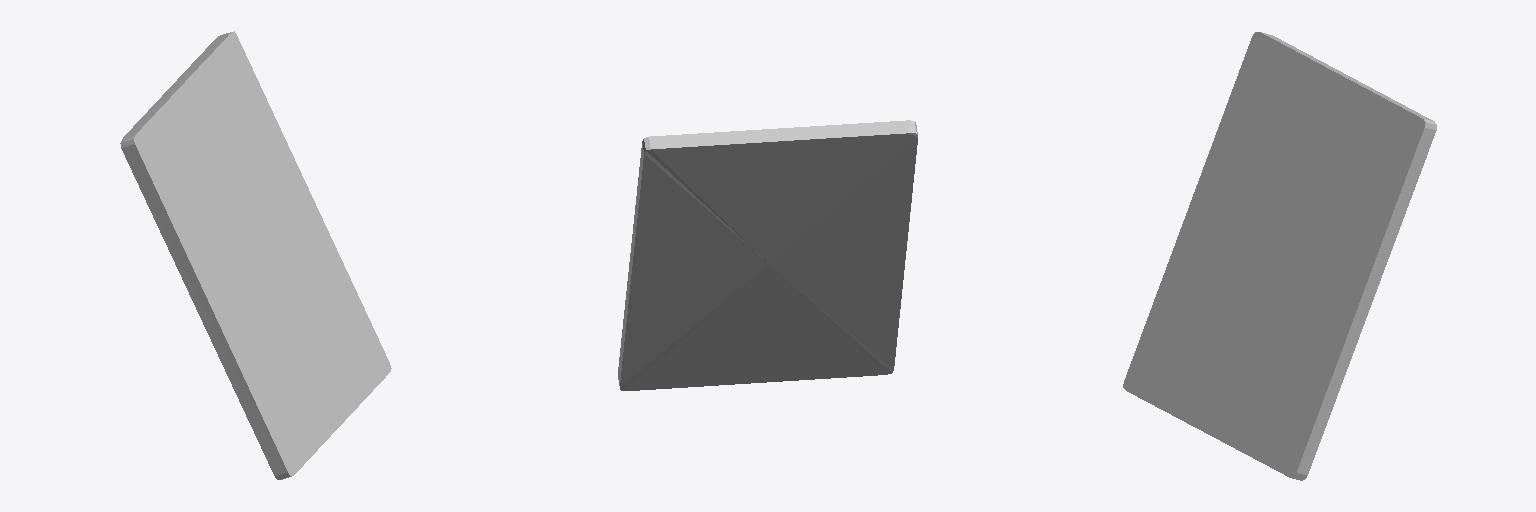
File: vespa_license_plate.obj
3 views of the same model, side by side, from view 1: azimuth 30°, elevation 25°; view 2: azimuth 150°, elevation 25°; view 3: azimuth 270°, elevation 25° (orthographic).
Bounding box in the file's own units: 14.74 × 15.84 × 14.07.